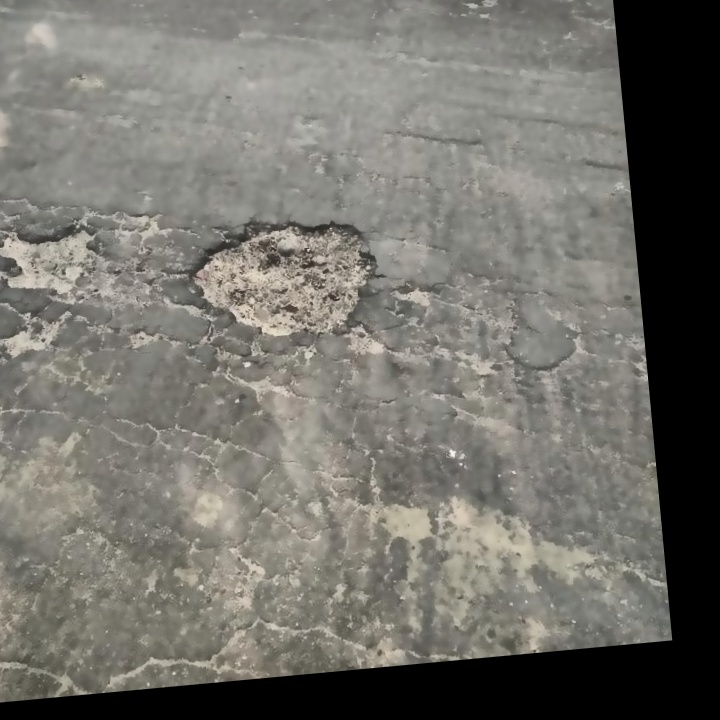pothole: (181, 207, 383, 348), (0, 216, 105, 299)
